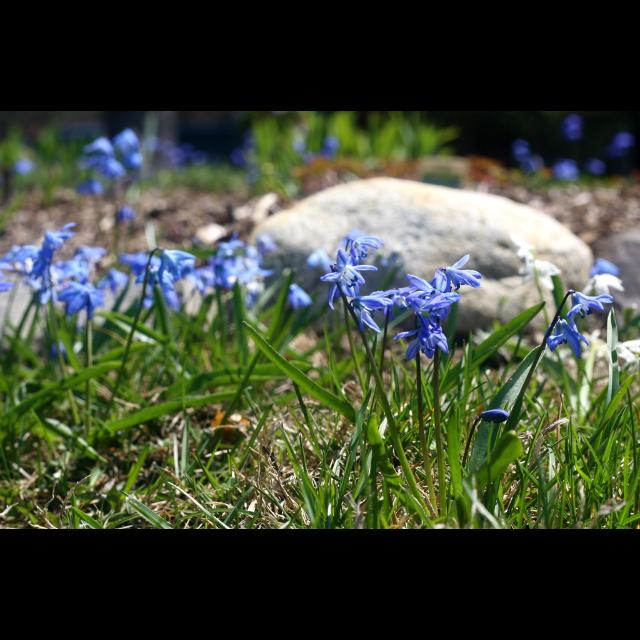Flower: (0, 229, 124, 321), (182, 233, 276, 310), (74, 126, 146, 222), (406, 254, 480, 322), (125, 247, 198, 310), (317, 264, 375, 312), (514, 244, 562, 292), (352, 290, 402, 334), (544, 314, 588, 362), (414, 321, 458, 365), (336, 228, 386, 260), (564, 288, 614, 318), (583, 272, 625, 298), (394, 287, 438, 309), (284, 280, 314, 312), (306, 248, 338, 274), (480, 409, 512, 425)
